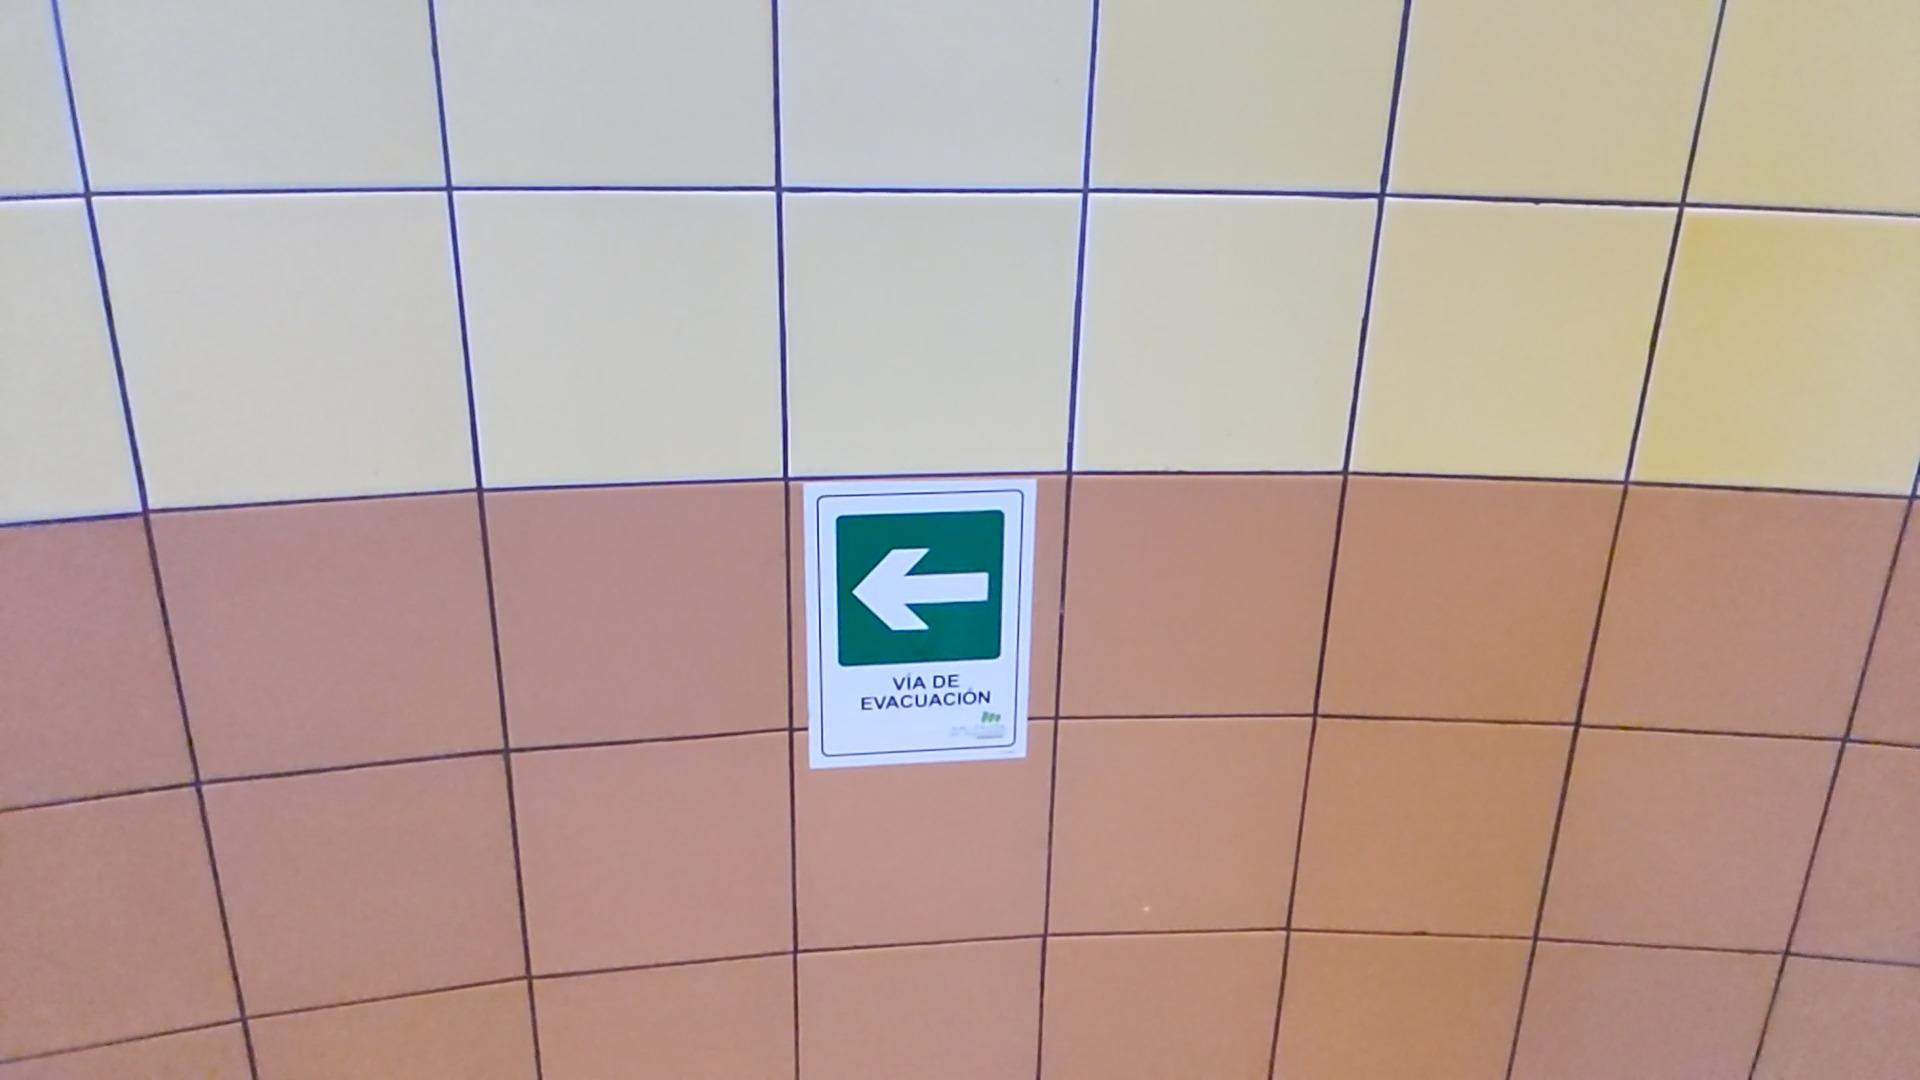emergency left arrow: (849, 542, 996, 636)
